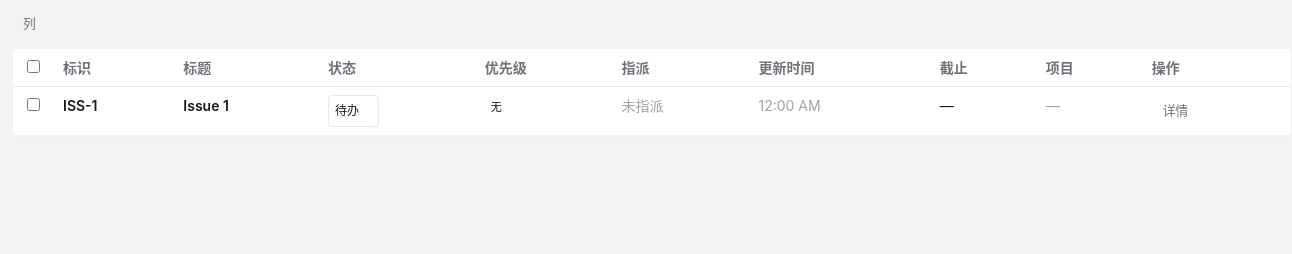
Test: IssueListView 列选择（列表表格二阶） › 列面板默认关闭；点「列」按钮开启，5 个可选列默认全勾选
Click the button with test id "issue-list-column-picker": (29, 24) [12,8,47,40]
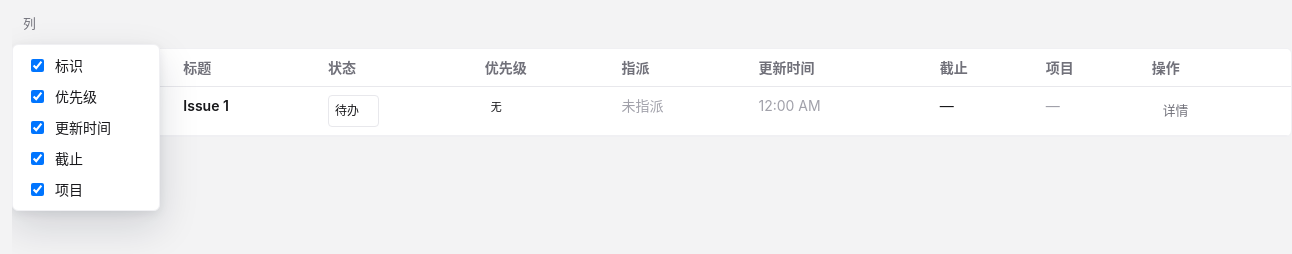
Check: the checkbox labelled "标识" is checked, box [31,59,44,72]
Check: the checkbox labelled "优先级" is checked, box [31,90,44,103]
Check: the checkbox labelled "更新时间" is checked, box [31,121,44,134]
